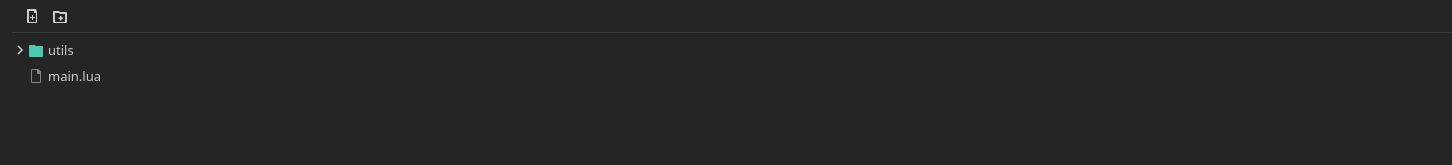
Scenario: FileExplorer › file rename › should enter rename mode when rename selected from menu
Note: open context menu and click rename
Right-click the list item "main.lua" at (64, 76), box 28,67 -> 101,85
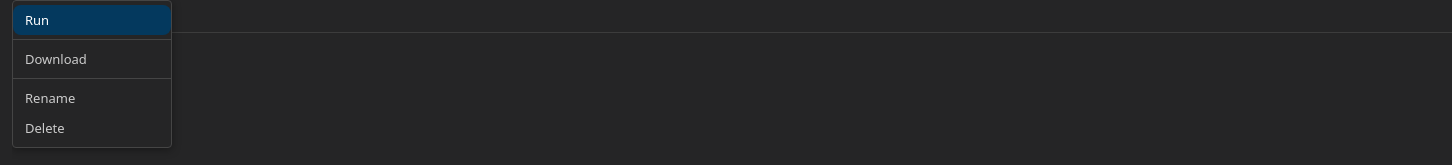
Click the menu item "Rename" at (92, 98), box 13,83 -> 171,113
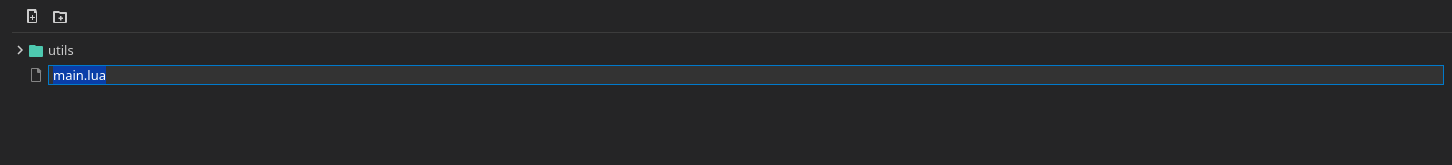
Expected: the field holds "main.lua", 48,65 -> 1444,85
